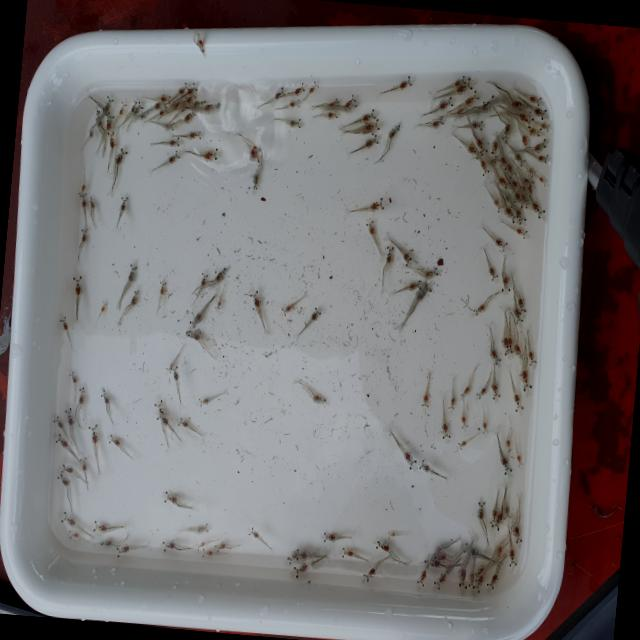babyshrimp: (293, 378, 327, 407), (302, 303, 323, 336), (191, 140, 221, 163), (121, 284, 140, 320), (112, 142, 129, 178), (204, 263, 228, 288), (530, 190, 548, 223), (399, 439, 418, 470), (70, 270, 84, 309), (356, 113, 381, 134), (450, 75, 475, 96), (291, 560, 319, 578), (519, 358, 533, 392), (430, 568, 452, 589), (184, 327, 208, 346), (459, 539, 483, 558), (373, 535, 397, 554), (384, 119, 402, 144), (155, 406, 173, 431), (361, 560, 381, 582), (498, 450, 514, 477), (470, 570, 488, 594), (86, 418, 100, 448), (53, 429, 74, 449), (55, 470, 71, 496), (189, 306, 207, 329), (510, 511, 522, 545), (59, 510, 83, 527), (251, 157, 263, 190), (484, 568, 501, 591), (124, 261, 137, 291), (475, 131, 490, 157), (513, 199, 528, 225), (512, 145, 528, 169), (154, 398, 166, 430), (57, 309, 71, 336), (397, 70, 415, 91), (486, 253, 499, 282), (488, 338, 501, 367), (192, 28, 207, 53), (91, 518, 116, 533), (490, 508, 506, 531), (98, 381, 111, 409), (292, 547, 320, 560), (171, 78, 190, 97), (99, 92, 114, 116), (421, 114, 445, 129), (463, 143, 483, 161), (456, 560, 468, 590), (414, 565, 429, 589), (271, 84, 288, 105), (355, 107, 377, 123), (439, 413, 452, 440), (76, 381, 86, 416), (281, 114, 304, 129), (435, 94, 454, 112), (530, 135, 548, 154), (417, 454, 435, 473), (162, 488, 180, 507), (107, 430, 127, 447), (248, 288, 262, 312), (365, 194, 386, 210), (420, 380, 432, 408), (111, 544, 132, 560), (51, 409, 67, 430), (449, 72, 471, 87), (499, 262, 510, 292), (175, 414, 193, 432), (491, 234, 509, 252), (511, 298, 523, 325), (472, 297, 489, 316), (246, 524, 265, 541), (161, 147, 181, 163), (464, 116, 484, 132), (512, 222, 528, 242), (507, 536, 517, 568), (65, 527, 85, 543), (502, 327, 513, 356), (319, 528, 340, 543), (168, 361, 180, 387), (64, 404, 75, 432), (289, 77, 307, 94), (529, 104, 548, 120), (457, 380, 472, 400), (190, 519, 210, 534), (103, 109, 116, 132), (115, 96, 128, 119), (78, 451, 89, 478), (517, 112, 534, 129), (362, 133, 380, 149), (512, 387, 523, 413), (199, 99, 219, 113), (527, 341, 537, 369), (490, 375, 500, 403), (517, 286, 526, 317), (506, 202, 518, 225), (480, 153, 491, 178), (182, 126, 203, 139), (196, 394, 215, 408), (308, 78, 320, 100), (339, 97, 359, 110), (466, 563, 476, 589), (161, 539, 181, 552), (526, 92, 542, 108), (473, 385, 489, 401), (57, 462, 80, 473), (476, 496, 485, 524), (340, 544, 358, 558), (119, 193, 129, 218), (106, 127, 116, 152), (282, 96, 301, 109), (158, 277, 168, 301), (183, 80, 198, 96), (279, 303, 296, 317), (532, 150, 549, 164), (194, 539, 212, 552), (197, 268, 208, 289), (78, 191, 88, 214), (80, 222, 89, 247), (78, 171, 87, 196), (163, 134, 180, 147), (214, 541, 234, 552), (364, 215, 376, 233), (535, 171, 549, 186), (537, 119, 551, 134), (528, 122, 542, 137), (67, 368, 78, 387), (87, 193, 95, 219), (480, 410, 488, 436), (126, 96, 138, 113), (515, 446, 524, 468), (456, 436, 470, 450), (460, 405, 468, 429), (132, 99, 143, 116), (99, 297, 108, 317), (320, 108, 338, 118), (446, 390, 455, 410), (504, 434, 513, 454), (156, 93, 172, 104), (214, 292, 223, 311), (201, 545, 215, 557), (386, 529, 402, 539), (180, 109, 194, 120), (285, 550, 296, 564)
